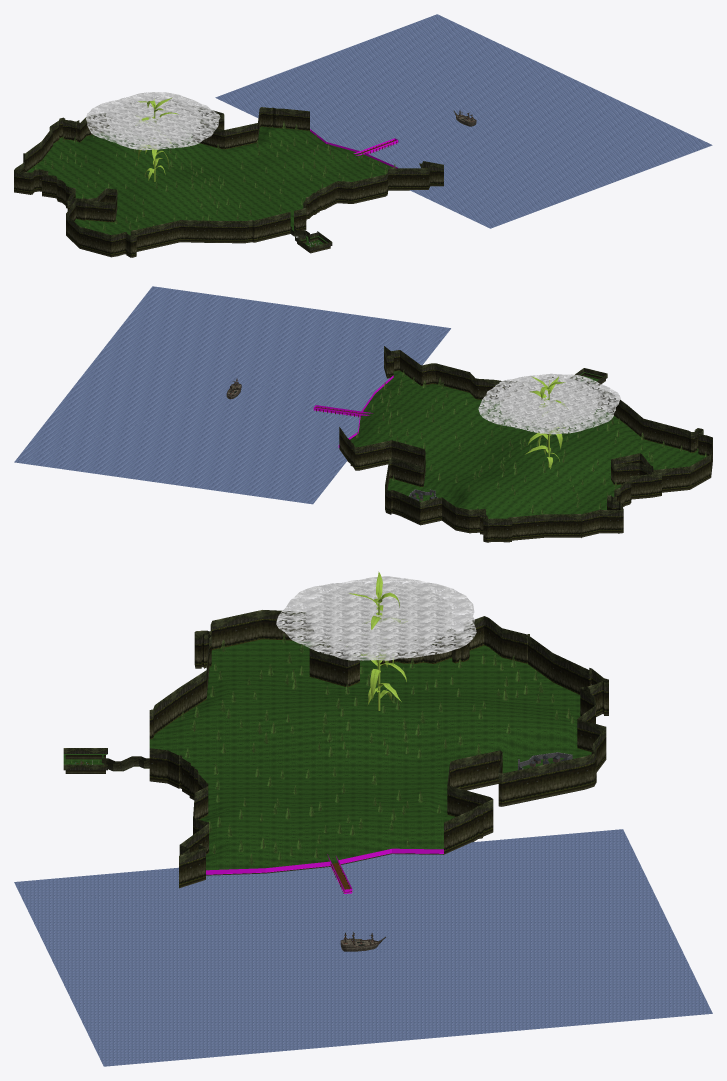
File: GroundWithHills.glb
The picture shows the model from 3 angles, top to bottom: view 1: azimuth 30°, elevation 25°; view 2: azimuth 150°, elevation 25°; view 3: azimuth 270°, elevation 25°; orthographic projection. The views are drawn at different scales.
Parts seen in each view (by area): view 1: Water, Field, Field_Cliffs, Cloud, Field_Skirt, Corn, Invisible_Walls; view 2: Water, Field, Field_Cliffs, Cloud, Field_Skirt, Corn, Invisible_Walls; view 3: Water, Field, Field_Cliffs, Cloud, Invisible_Walls, Corn, Field_Skirt.
Part boxes in pixels (x1=…): Water: x1=215, y1=14, x2=712, y2=228; Field: x1=27, y1=126, x2=393, y2=235; Field_Cliffs: x1=14, y1=101, x2=443, y2=255; Cloud: x1=86, y1=92, x2=220, y2=150; Field_Skirt: x1=14, y1=184, x2=443, y2=257; Corn: x1=136, y1=97, x2=178, y2=181; Invisible_Walls: x1=310, y1=129, x2=398, y2=168; Water: x1=14, y1=286, x2=450, y2=504; Field: x1=350, y1=370, x2=706, y2=518; Field_Cliffs: x1=339, y1=346, x2=712, y2=539; Cloud: x1=478, y1=373, x2=620, y2=434; Field_Skirt: x1=339, y1=367, x2=712, y2=542; Corn: x1=525, y1=376, x2=569, y2=468; Invisible_Walls: x1=313, y1=375, x2=393, y2=447; Water: x1=14, y1=829, x2=712, y2=1066; Field: x1=149, y1=639, x2=591, y2=870; Field_Cliffs: x1=149, y1=610, x2=608, y2=885; Cloud: x1=276, y1=576, x2=476, y2=660; Invisible_Walls: x1=206, y1=848, x2=443, y2=893; Corn: x1=346, y1=571, x2=407, y2=710; Field_Skirt: x1=149, y1=661, x2=608, y2=888.
Bounding box in the file's own units: 1070 × 169 × 744.
Materials: 45 (42 with a texture image).
